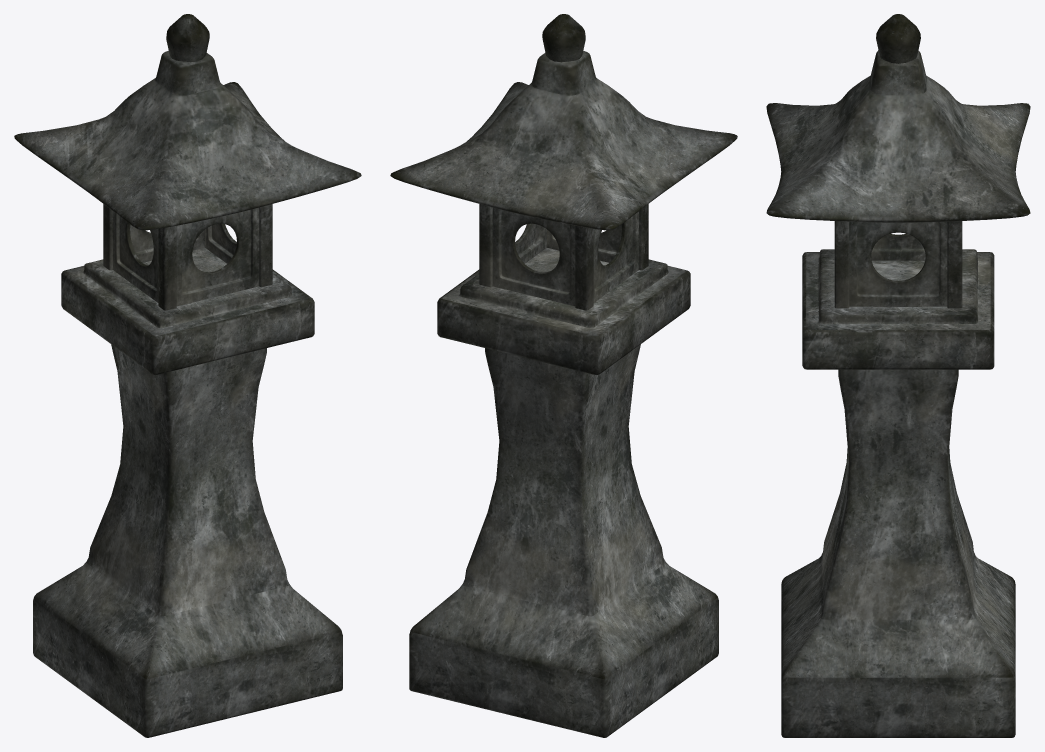
File: Lantern2.fbx
3 renders of one model, left to right at view 1: azimuth 30°, elevation 25°; view 2: azimuth 150°, elevation 25°; view 3: azimuth 270°, elevation 25°, orthographic. The views are drawn at different scales.
Parts seen in each view (by area): view 1: Lantern2; view 2: Lantern2; view 3: Lantern2.
Boxes of the visible parts, <box> form: Lantern2: <box>14,14,361,737</box>; Lantern2: <box>390,14,737,737</box>; Lantern2: <box>766,14,1030,737</box>.
Bounding box in the file's own units: 0.4924 × 1.39 × 0.4924.
